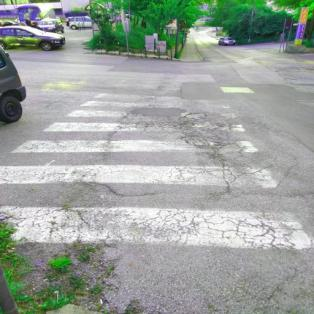Paso de Cebra: (0, 136, 280, 190)
